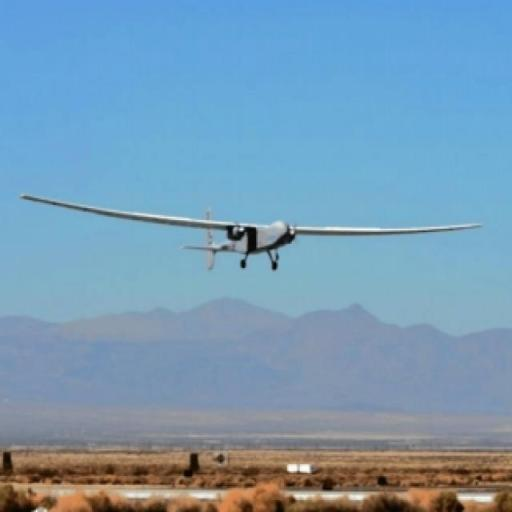uav: (17, 186, 487, 278)
